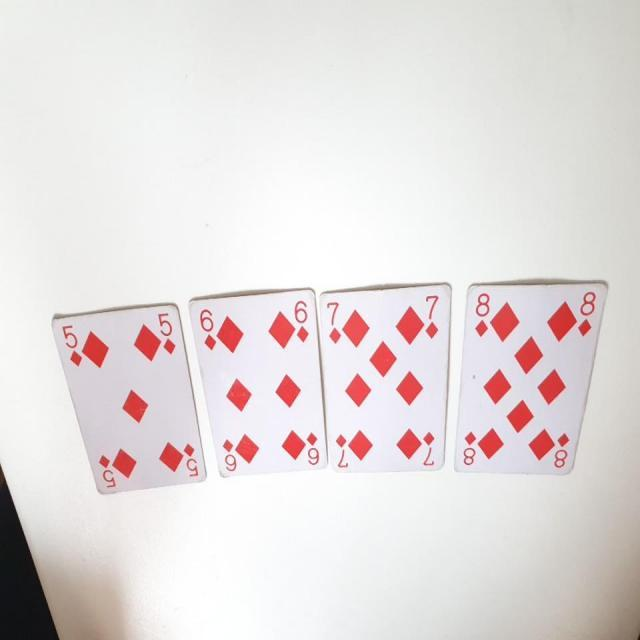5 of diamonds: (46, 302, 210, 498)
6 of diamonds: (186, 286, 326, 479)
7 of diamonds: (318, 278, 452, 476)
8 of diamonds: (454, 280, 610, 480)
